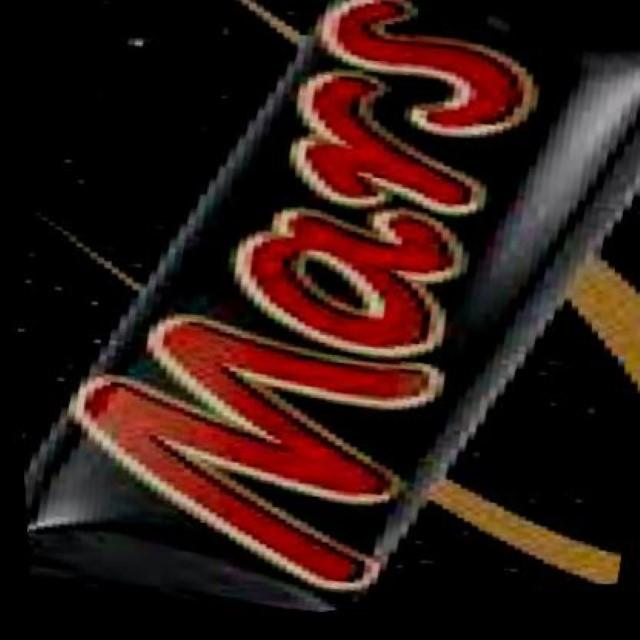mars_chocolate: (91, 10, 602, 625)
